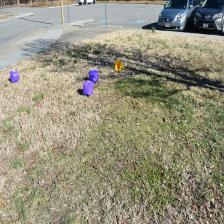cone: (115, 60, 125, 72)
cube: (83, 80, 94, 96), (88, 70, 99, 83), (10, 70, 19, 83)
